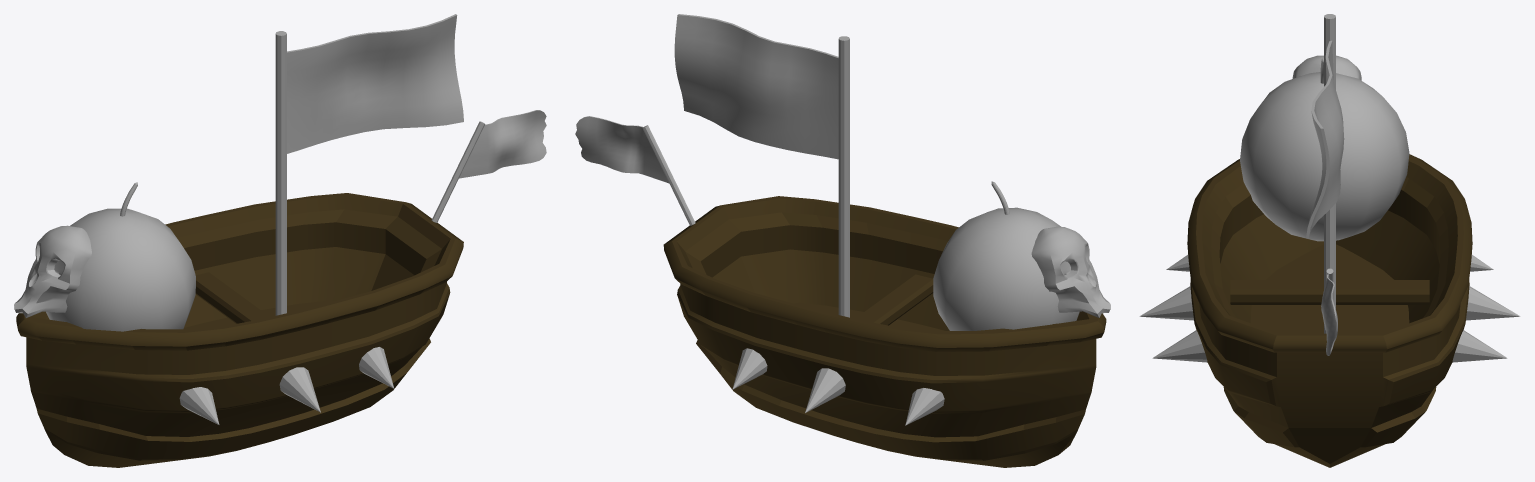
Rendered from ZombieEnemyTier2.fbx.
3 renders of one model, left to right at view 1: azimuth 30°, elevation 25°; view 2: azimuth 150°, elevation 25°; view 3: azimuth 270°, elevation 25°, orthographic. The views are drawn at different scales.
Parts seen in each view (by area): view 1: pCube4, polySurface19, polySurface17, polySurface32, polySurface20, polySurface3, polySurface24, polySurface25, polySurface23, polySurface1; view 2: pCube4, polySurface19, polySurface17, polySurface32, polySurface20, polySurface3, polySurface29, polySurface28, polySurface30, polySurface1; view 3: pCube4, polySurface17, polySurface19, polySurface3, polySurface24, polySurface29, polySurface23, polySurface30, polySurface20, polySurface32.
Boxes of the visible parts, <box> form: pCube4: <box>16,193,463,467</box>; polySurface19: <box>287,14,463,153</box>; polySurface17: <box>46,182,195,331</box>; polySurface32: <box>14,225,91,317</box>; polySurface20: <box>459,110,546,178</box>; polySurface3: <box>275,31,286,315</box>; polySurface24: <box>279,367,320,412</box>; polySurface25: <box>179,387,219,424</box>; polySurface23: <box>359,347,394,388</box>; polySurface1: <box>431,121,485,222</box>; pCube4: <box>663,196,1106,467</box>; polySurface19: <box>674,14,838,159</box>; polySurface17: <box>933,181,1079,330</box>; polySurface32: <box>1031,226,1110,317</box>; polySurface20: <box>575,116,669,183</box>; polySurface3: <box>838,36,849,317</box>; polySurface29: <box>805,368,845,412</box>; polySurface28: <box>905,388,944,425</box>; polySurface30: <box>732,348,767,389</box>; polySurface1: <box>642,125,695,225</box>; pCube4: <box>1187,154,1472,467</box>; polySurface17: <box>1240,58,1409,241</box>; polySurface19: <box>1306,40,1344,238</box>; polySurface3: <box>1324,14,1335,333</box>; polySurface24: <box>1139,286,1193,320</box>; polySurface29: <box>1466,286,1520,320</box>; polySurface23: <box>1152,330,1207,362</box>; polySurface30: <box>1452,330,1507,362</box>; polySurface20: <box>1321,274,1337,355</box>; polySurface32: <box>1292,55,1361,80</box>.
Bounding box in the file's own units: 3.91 × 2.78 × 2.24.
